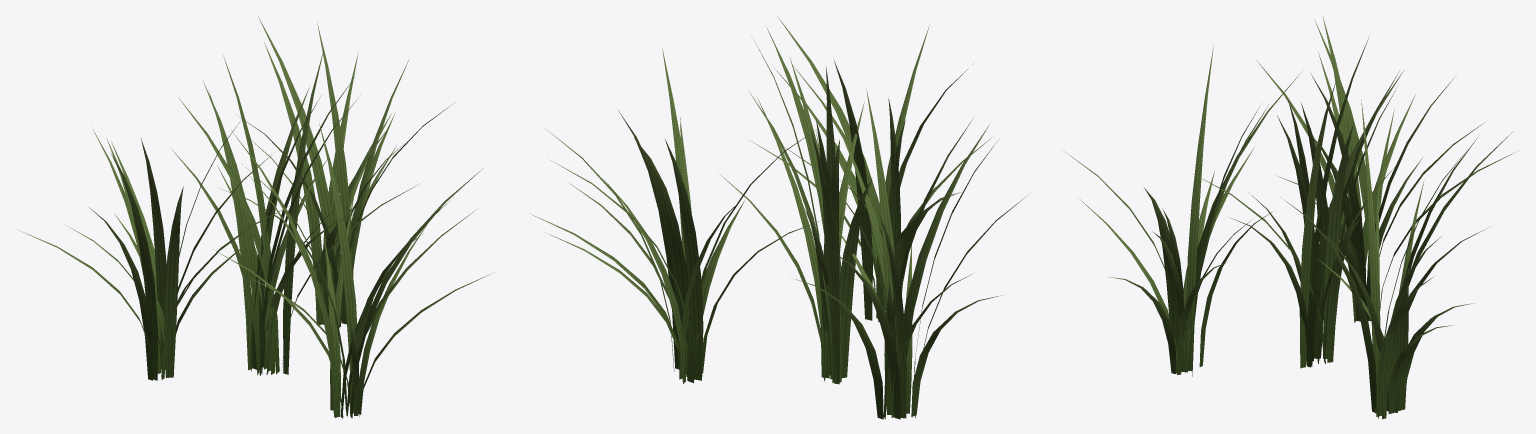
The model's file is grass-forest.glb.
3 renders of one model, left to right at view 1: azimuth 30°, elevation 25°; view 2: azimuth 150°, elevation 25°; view 3: azimuth 270°, elevation 25°, orthographic. The views are drawn at different scales.
Visible parts, largest first — view 1: ForestGrass; view 2: ForestGrass; view 3: ForestGrass.
Part boxes in pixels (<box>): ForestGrass: <box>16,16,492,419</box>; ForestGrass: <box>532,16,1026,419</box>; ForestGrass: <box>1064,16,1519,419</box>.
Bounding box in the file's own units: 0.4905 × 0.35 × 0.4598.
Materials: 1 (1 with a texture image).
